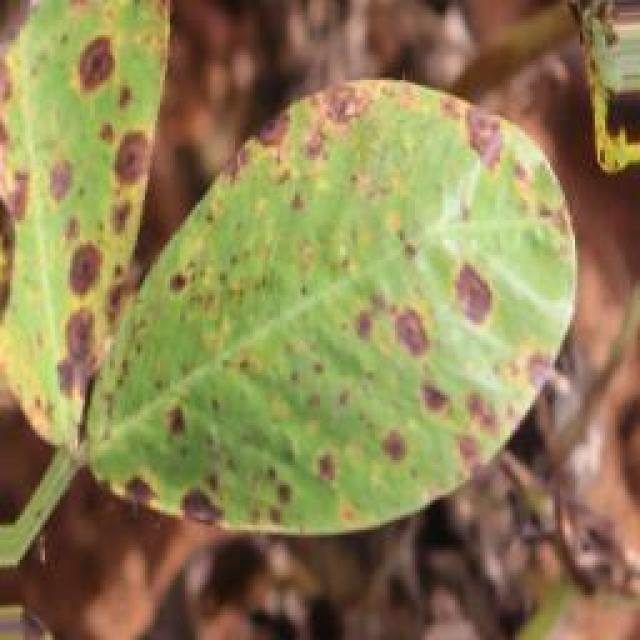Yellowish: (0, 0, 629, 513)
